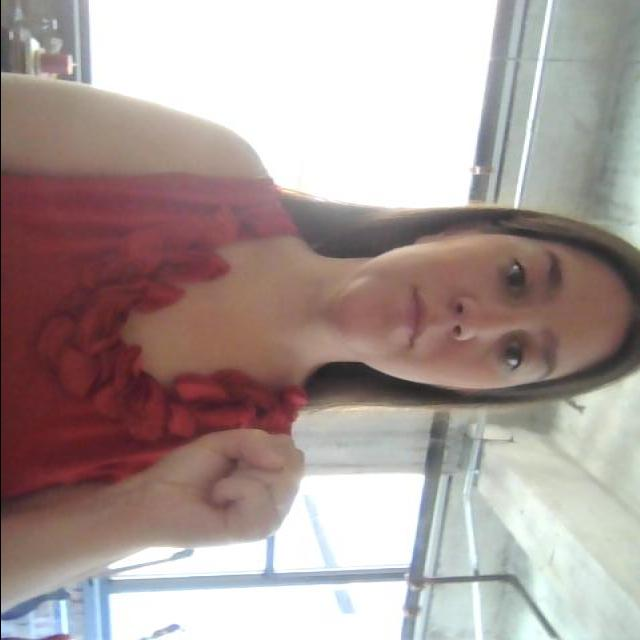Rock: (130, 427, 308, 551)
